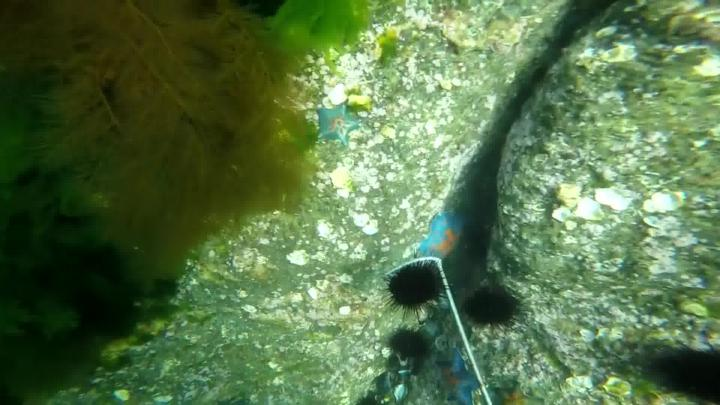echinus: (651, 346, 720, 405), (382, 261, 448, 314), (459, 289, 517, 332), (390, 330, 431, 358)
scallop: (640, 192, 683, 218), (568, 195, 604, 224), (596, 191, 630, 213), (329, 169, 351, 191), (330, 84, 349, 106), (610, 380, 631, 397)
starfish: (435, 356, 483, 405), (421, 212, 470, 259), (316, 105, 362, 147)
